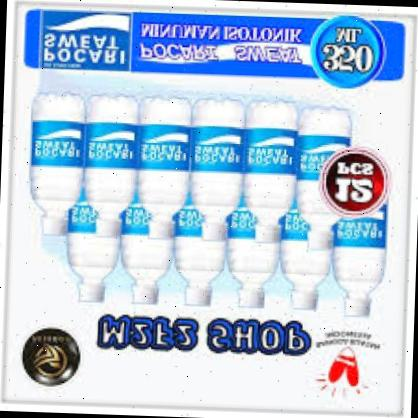bottle: (25, 89, 83, 231), (86, 80, 141, 227), (343, 184, 401, 318), (144, 86, 196, 228), (279, 192, 338, 315), (294, 100, 340, 251), (203, 87, 253, 220), (260, 90, 308, 217), (120, 194, 175, 304), (172, 194, 227, 304), (66, 192, 120, 304), (224, 198, 280, 306)
cap: (289, 288, 322, 313), (75, 282, 108, 306), (307, 228, 337, 254), (130, 284, 164, 306), (237, 287, 268, 310), (198, 221, 230, 243), (146, 220, 176, 243), (93, 218, 124, 239), (253, 224, 282, 246), (40, 216, 70, 237), (344, 298, 373, 318), (182, 290, 214, 308)
label: (75, 124, 136, 178), (130, 126, 190, 174), (30, 120, 89, 168), (302, 135, 354, 184), (190, 132, 249, 172), (338, 208, 392, 246), (250, 130, 296, 172), (278, 212, 338, 244), (119, 210, 180, 238), (178, 208, 227, 239), (67, 210, 119, 235), (229, 211, 264, 233)
